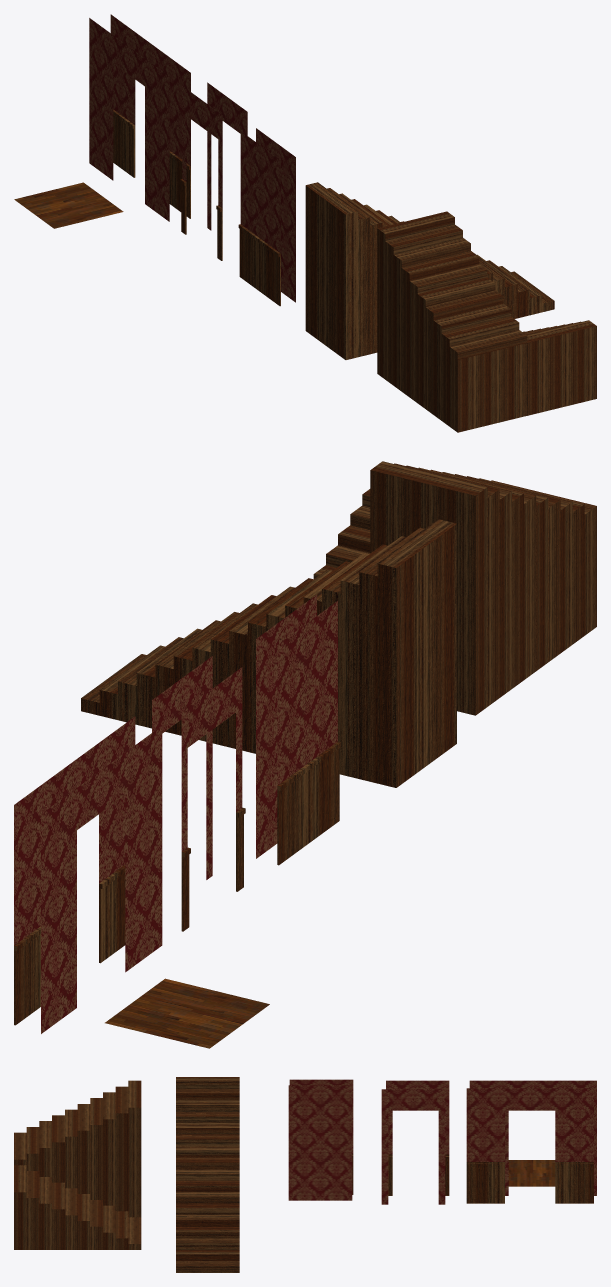
File: Structure.fbx
3 views of the same model, one above another, from view 1: azimuth 30°, elevation 25°; view 2: azimuth 150°, elevation 25°; view 3: azimuth 270°, elevation 25° (orthographic). The views are drawn at different scales.
Parts seen in each view (by area): view 1: Stairs__8_, Stairs__2_, New_Game_Object, New_Game_Object_1, Sprite__4_, Stairs__7_, Plane__74_, Sprite__47_, New_Game_Object_2, New_Game_Object_3; view 2: Stairs__2_, Stairs__8_, New_Game_Object, Sprite__4_, New_Game_Object_1, Plane__74_, Sprite__47_, New_Game_Object_2, New_Game_Object_3, Stairs__7_; view 3: Stairs__2_, Stairs__8_, New_Game_Object_1, Stairs__7_, Sprite__47_, New_Game_Object_3, New_Game_Object, New_Game_Object_2, Plane__74_, Sprite__4_.
Boxes of the visible parts, x1,y1,x2,y2 form: Stairs__8_: [377, 211, 527, 432]; Stairs__2_: [305, 182, 554, 359]; New_Game_Object: [89, 18, 169, 221]; New_Game_Object_1: [110, 14, 190, 218]; Sprite__4_: [238, 131, 280, 306]; Stairs__7_: [522, 320, 596, 415]; Plane__74_: [14, 182, 123, 228]; Sprite__47_: [256, 128, 295, 302]; New_Game_Object_2: [180, 86, 222, 260]; New_Game_Object_3: [207, 82, 247, 230]; Stairs__2_: [81, 519, 456, 787]; Stairs__8_: [370, 461, 596, 715]; New_Game_Object: [41, 726, 162, 1033]; Sprite__4_: [277, 601, 341, 865]; New_Game_Object_1: [14, 716, 135, 1025]; Plane__74_: [105, 978, 269, 1048]; Sprite__47_: [256, 594, 316, 858]; New_Game_Object_2: [181, 667, 245, 931]; New_Game_Object_3: [152, 656, 212, 879]; Stairs__7_: [313, 489, 370, 578]; Stairs__2_: [176, 1077, 239, 1272]; Stairs__8_: [14, 1080, 141, 1217]; New_Game_Object_1: [466, 1088, 593, 1203]; Stairs__7_: [14, 1165, 141, 1249]; Sprite__47_: [288, 1085, 352, 1200]; New_Game_Object_3: [381, 1089, 445, 1204]; New_Game_Object: [469, 1080, 596, 1195]; New_Game_Object_2: [386, 1080, 449, 1195]; Plane__74_: [508, 1160, 555, 1186]; Sprite__4_: [289, 1079, 353, 1194].
Size of the model in its own units: 1262 by 621 by 2750.
